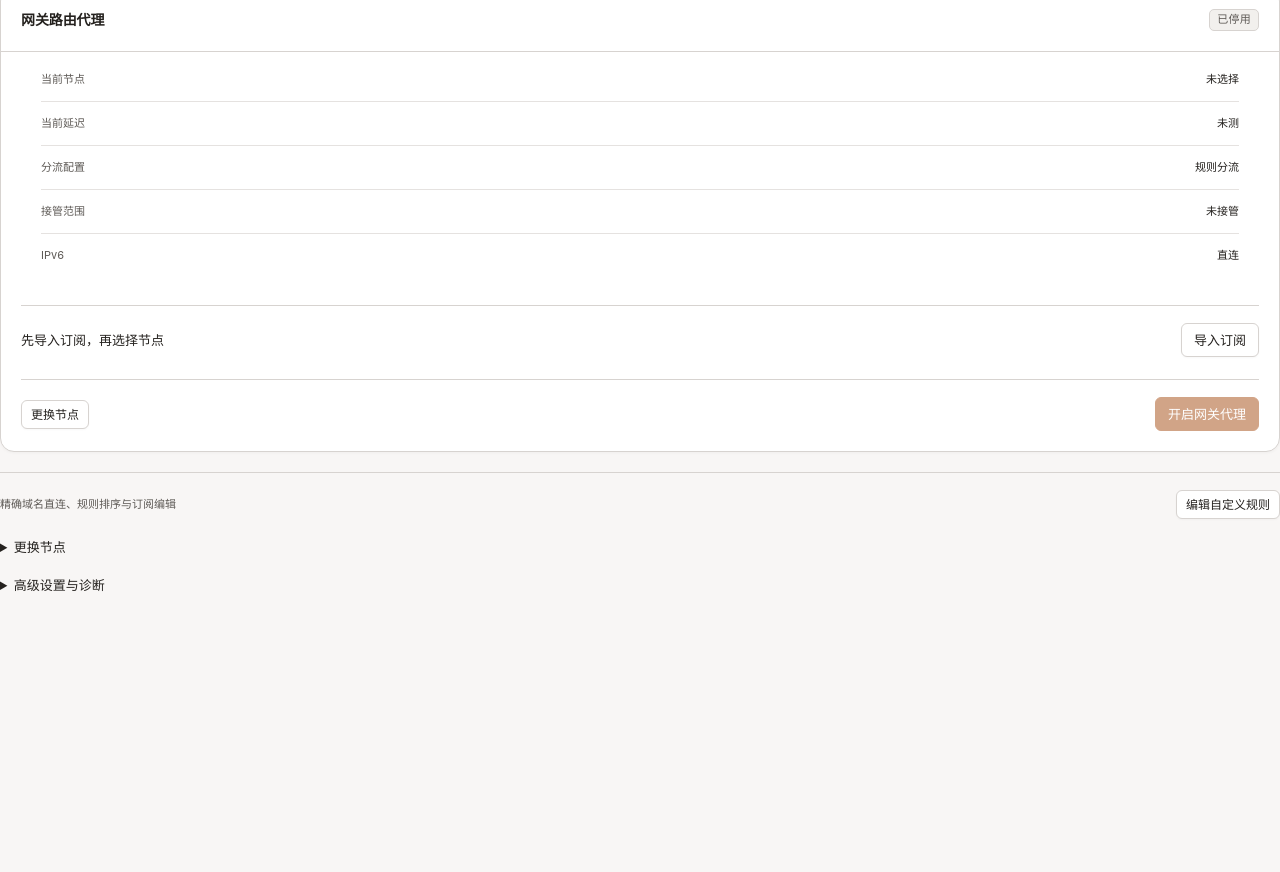
Scenario: real proxy operations › imports one private HTTPS URL, selects a named node and Commits exact native compiler inputs
Click the heading "高级设置与诊断".
click(59, 585)  # box x1=14 y1=577 x2=105 y2=593
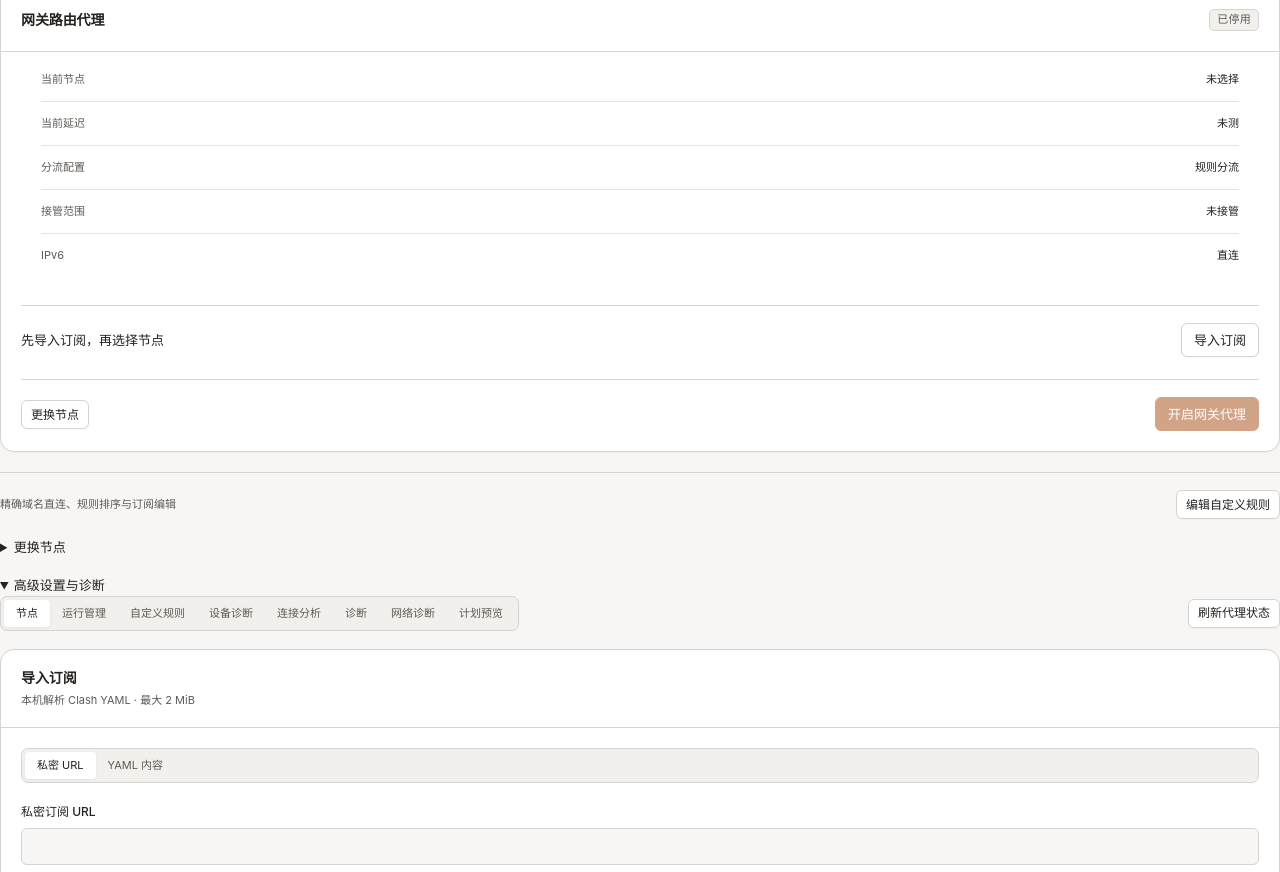
Type "https://subscriptions.example.test/private-test" into the password field labelled "私密订阅 URL".
click(640, 847); type("https://subscriptions.example.test/private-test")  # box x1=21 y1=828 x2=1259 y2=865
(page scrolled)
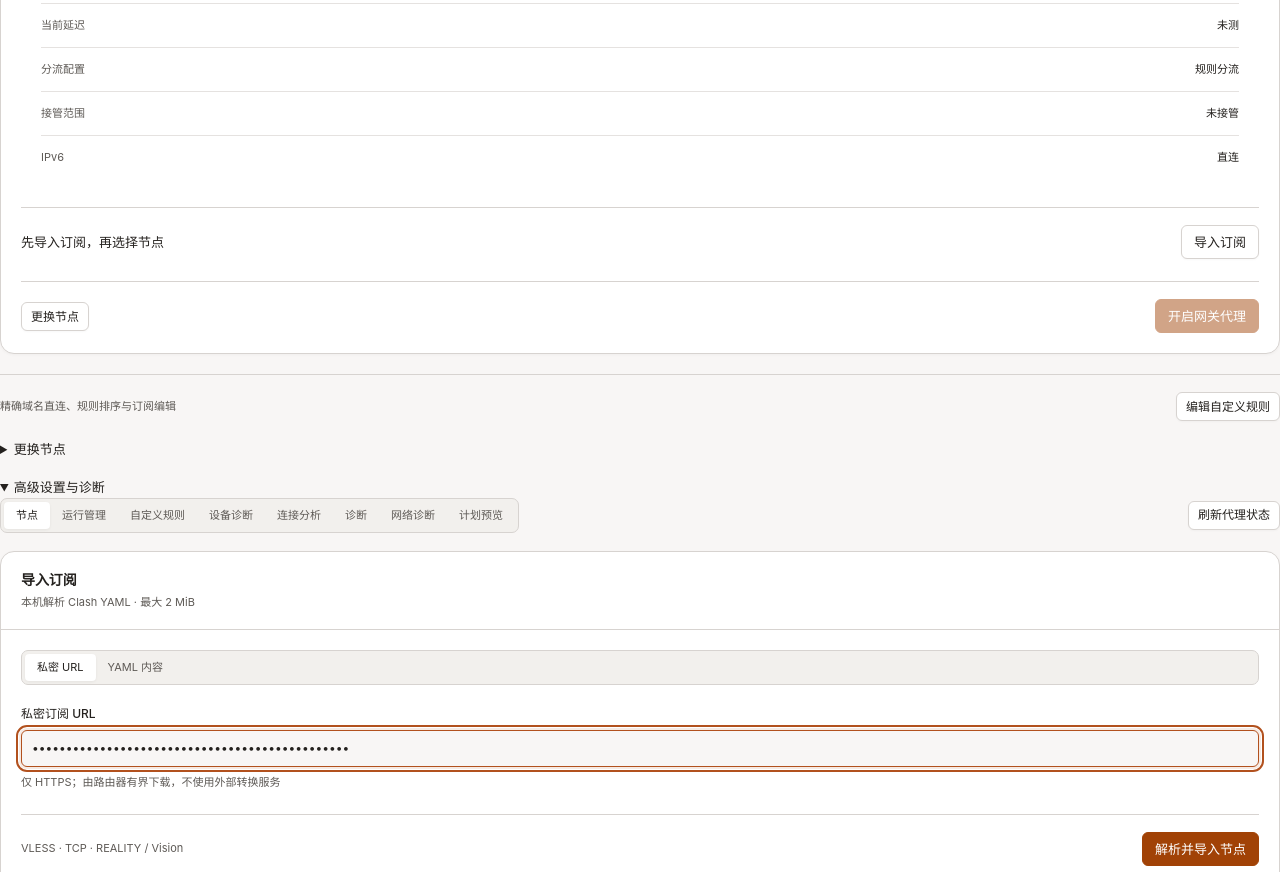
Click the button "解析并导入节点".
click(1200, 849)  # box x1=1142 y1=832 x2=1259 y2=866
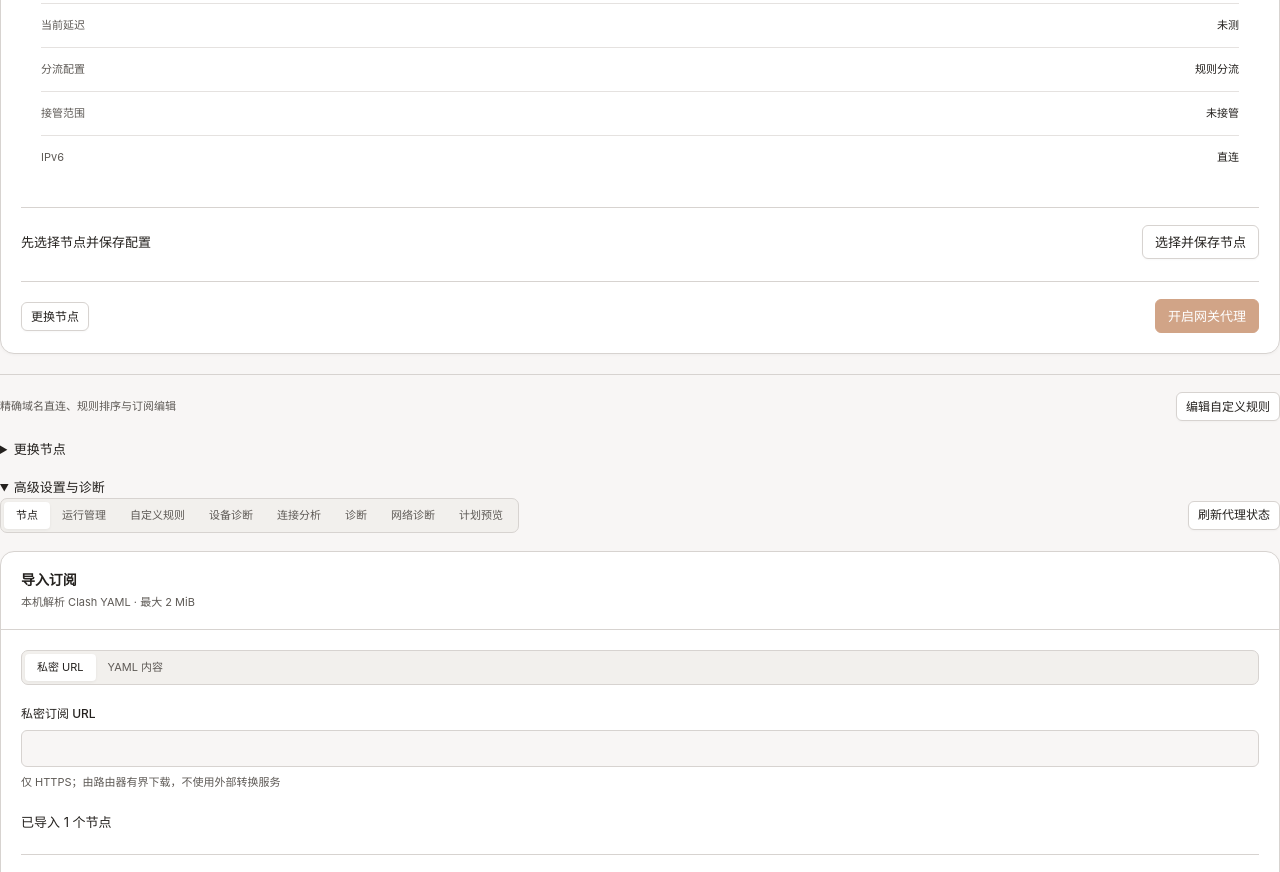
Now the text "已导入 1 个节点" is shown, box x1=21 y1=814 x2=112 y2=830
Click the button "更换节点".
click(55, 316)  # box x1=21 y1=302 x2=89 y2=331
(page scrolled)
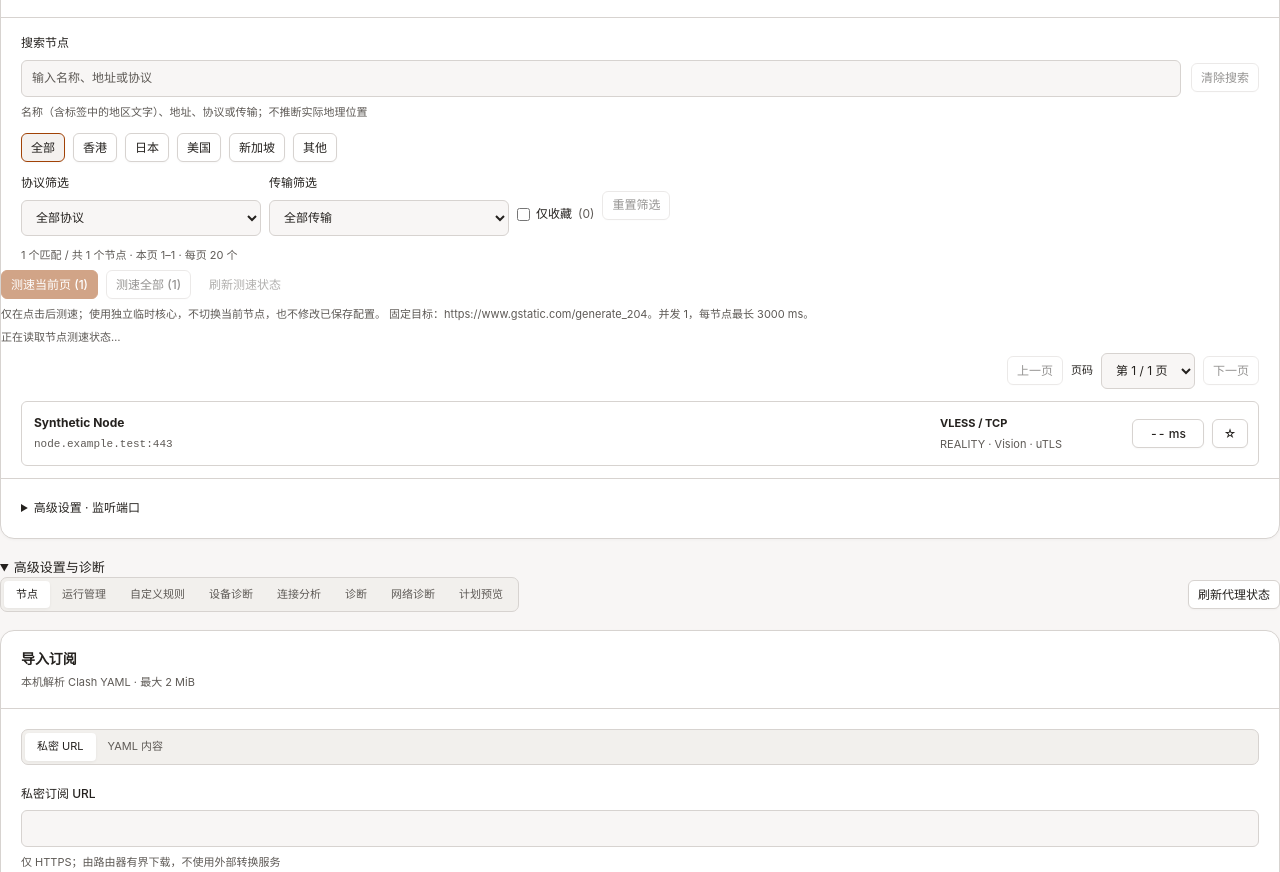
Now the password field labelled "私密订阅 URL" is empty, box x1=21 y1=810 x2=1259 y2=847
Now the button with aria-label "选择节点 Synthetic Node" is shown
Click the button with aria-label "选择节点 Synthetic Node".
click(79, 422)  # box x1=22 y1=402 x2=1132 y2=465
(page scrolled)
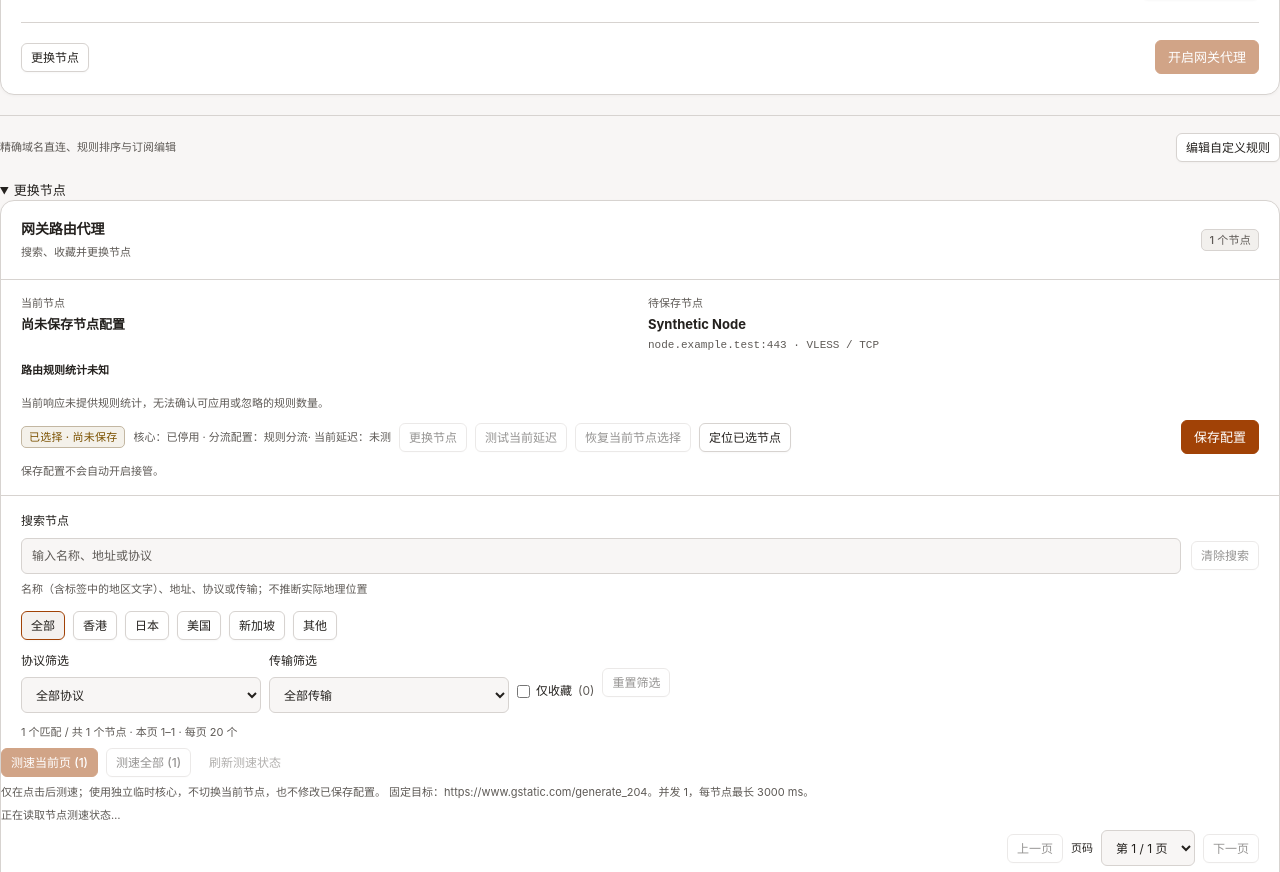
Click the button "保存配置".
click(1220, 437)  # box x1=1181 y1=420 x2=1259 y2=454
(page scrolled)
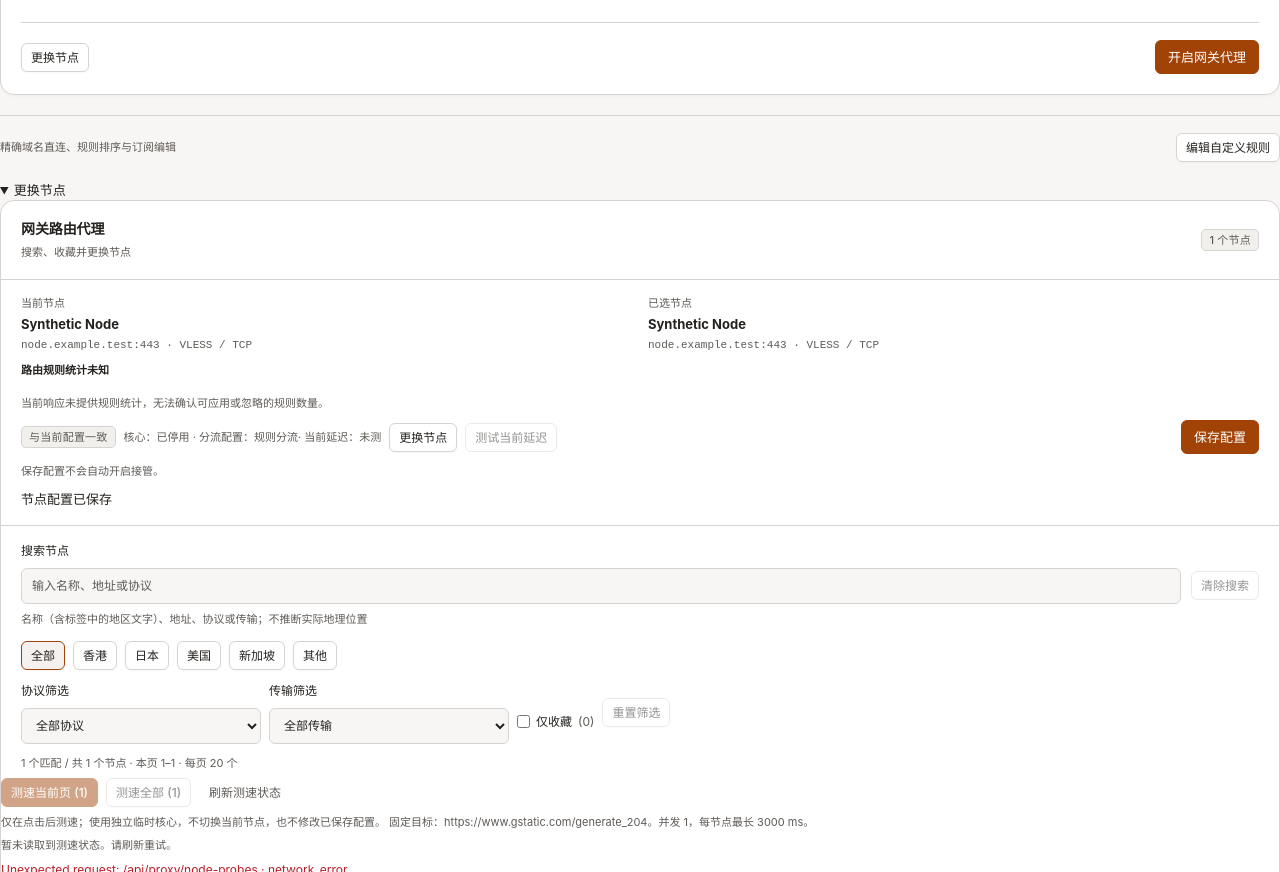
Now the text "节点配置已保存" is shown, box x1=21 y1=491 x2=112 y2=507
